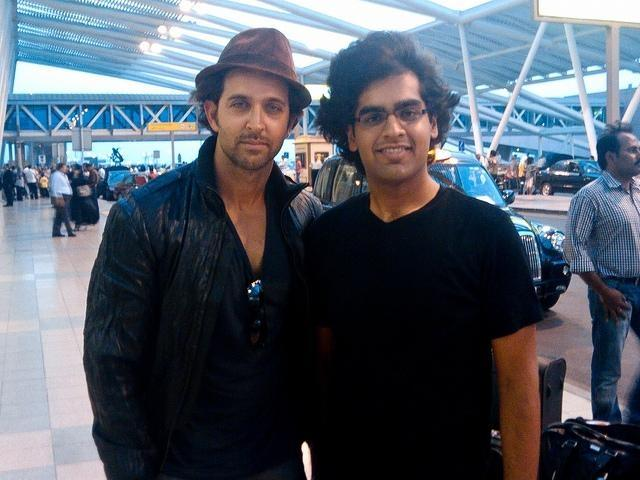car: (309, 146, 572, 313), (534, 160, 601, 196), (112, 172, 148, 200), (105, 170, 132, 201)
